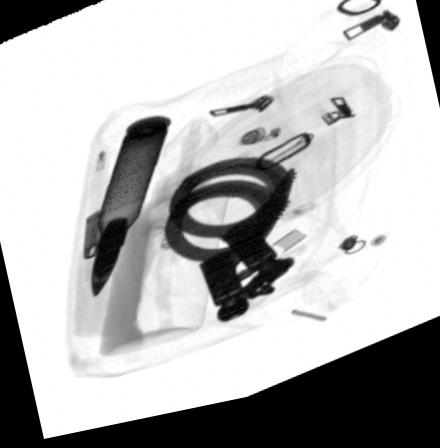Bullet: (88, 121, 167, 300)
HandCuffs: (160, 166, 298, 332)
